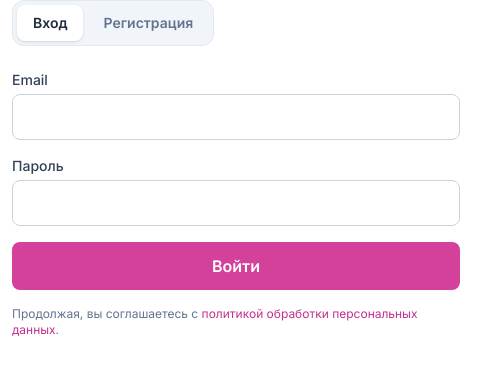
Scenario: AuthForm › signs in and remembers the profile
Type "a@b.by" into the field labelled "Email".
click(236, 117); type("a@b.by")  # box [12,94,460,140]
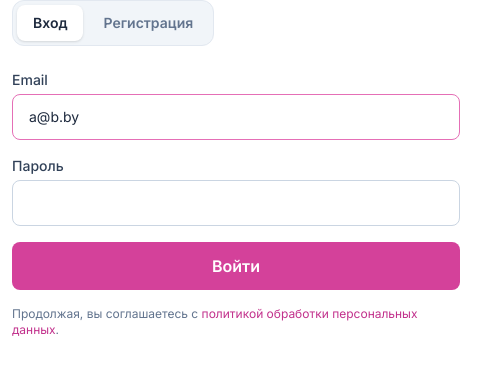
Type "long-enough" into the password field labelled "Пароль".
click(236, 203); type("long-enough")  # box [12,180,460,226]
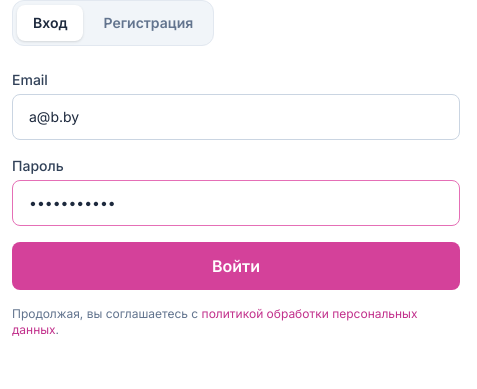
Click the button "Войти".
click(236, 266)  # box [12,242,460,290]
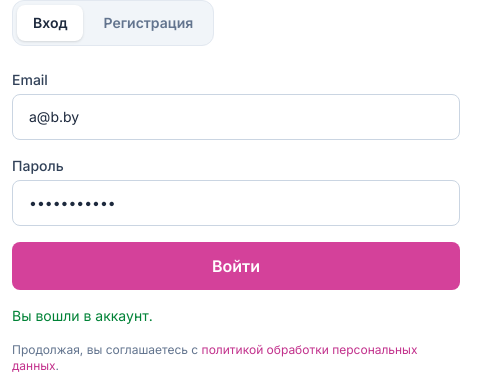
Expected: the text "Вы вошли в аккаунт." is shown, [12,307,153,324]
